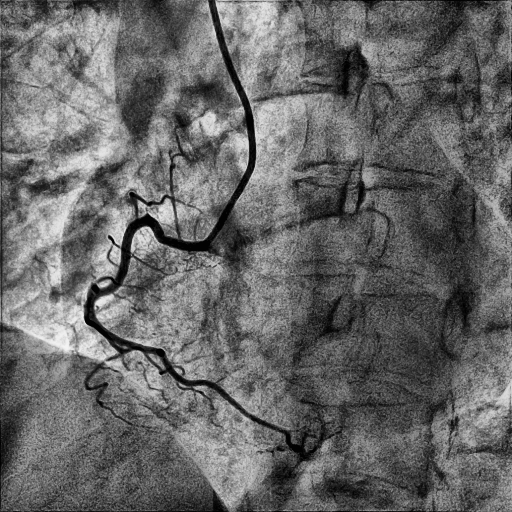rca: (84, 214, 306, 459)
